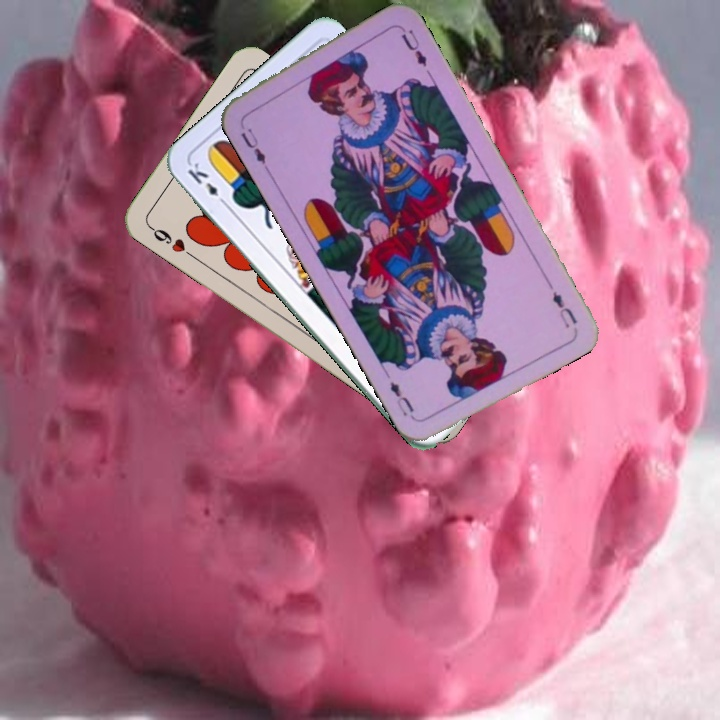EK: (183, 158, 231, 210)
EU: (236, 119, 269, 167), (548, 287, 580, 331)
H9: (144, 221, 196, 260)
